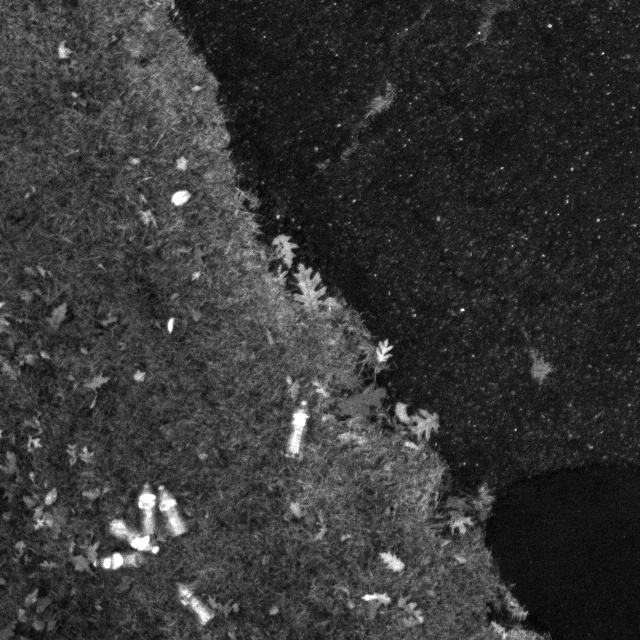bottle: (275, 395, 316, 461), (105, 515, 162, 560), (170, 577, 217, 628), (151, 482, 191, 540), (96, 544, 147, 579), (136, 475, 161, 544)
